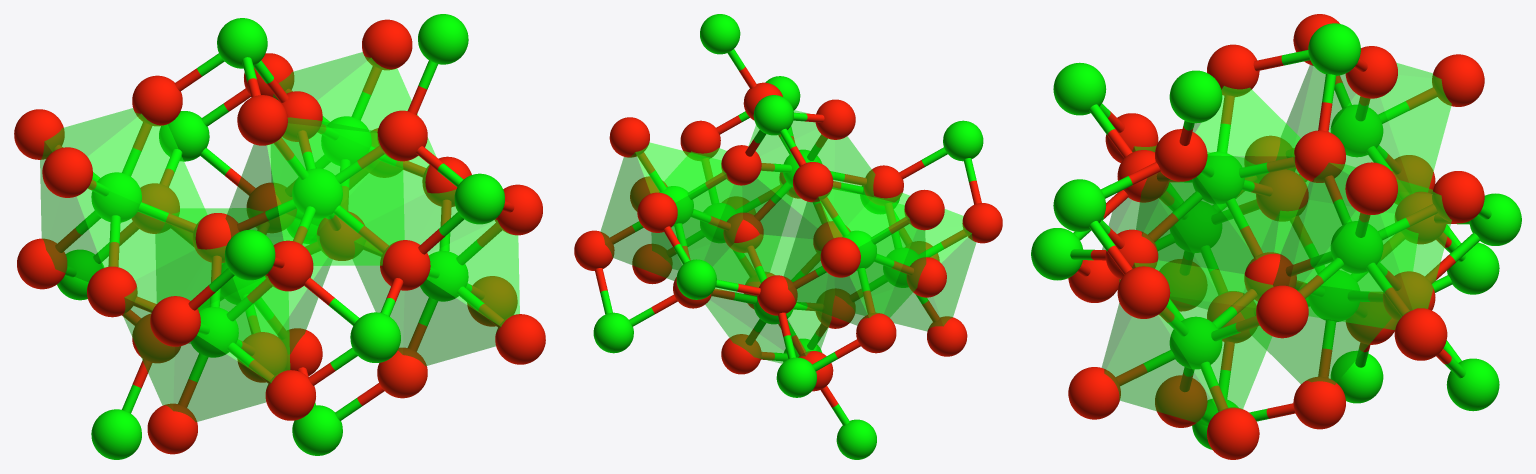
Rendered from ZrO2.glb.
3 views of the same model, side by side, from view 1: azimuth 30°, elevation 25°; view 2: azimuth 150°, elevation 25°; view 3: azimuth 270°, elevation 25° (orthographic). The views are drawn at different scales.
Visible parts, largest first — view 1: polyhedra, atoms, bonds; view 2: polyhedra, atoms, bonds; view 3: atoms, polyhedra, bonds.
Part boxes in pixels (x1,y1,x2,y2): polyhedra: (40, 52, 519, 421); atoms: (14, 14, 545, 459); bonds: (53, 53, 514, 420); polyhedra: (600, 110, 976, 363); atoms: (574, 14, 1002, 459); bonds: (595, 49, 981, 425); atoms: (1031, 14, 1521, 459); polyhedra: (1101, 63, 1451, 425); bonds: (1070, 50, 1491, 423).
Size of the model in its own units: 9.72 by 9.51 by 9.31.
